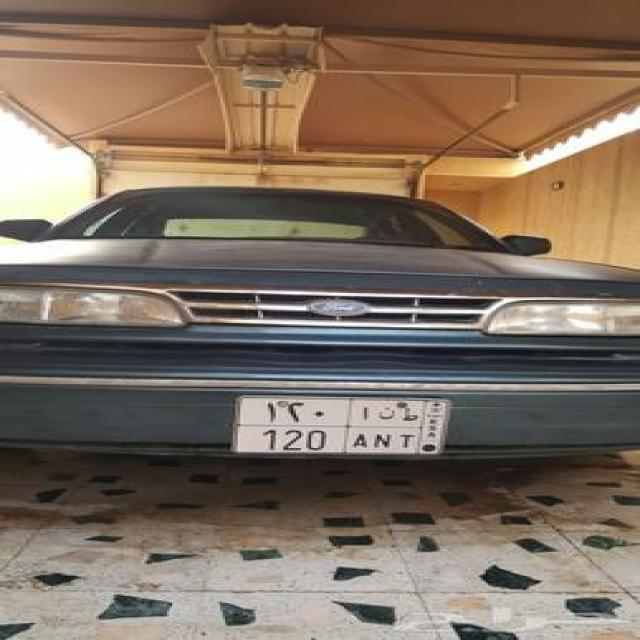license_plate: (230, 392, 453, 461)
